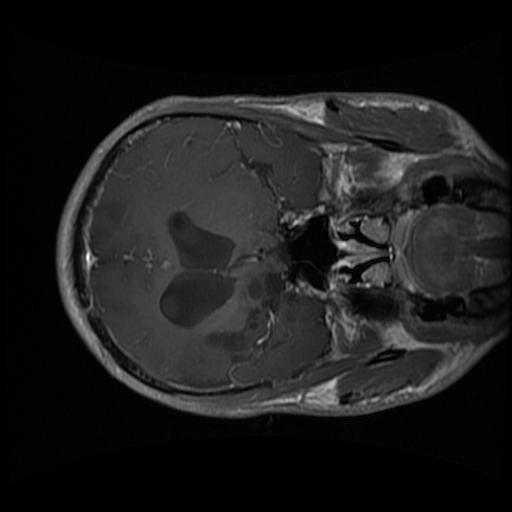glioma: (203, 270, 287, 389)
